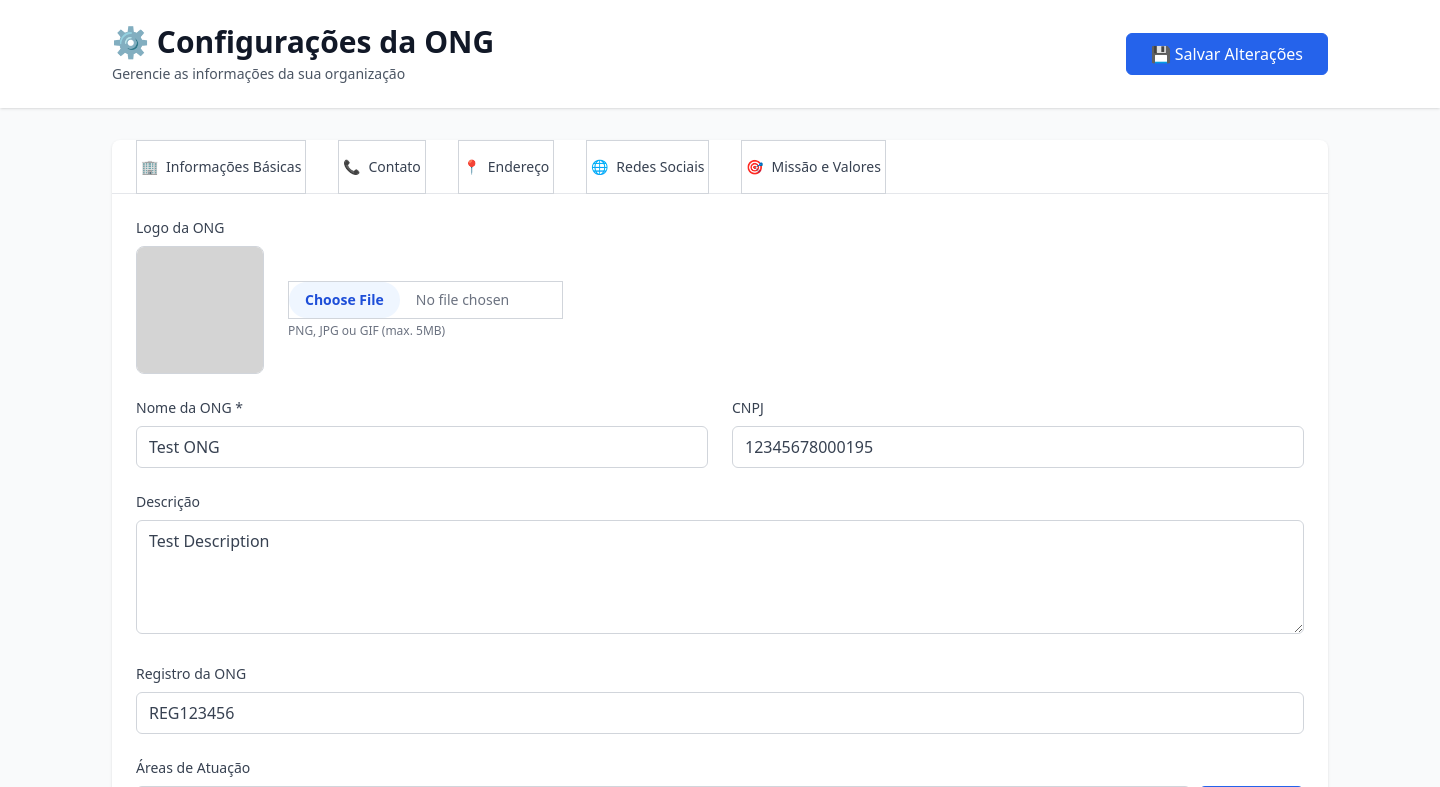
Test: ONGSettingsPage › Contact Tab › should display contact info form
Click the button "📞Contato" at (382, 167), box [338,140,426,194]
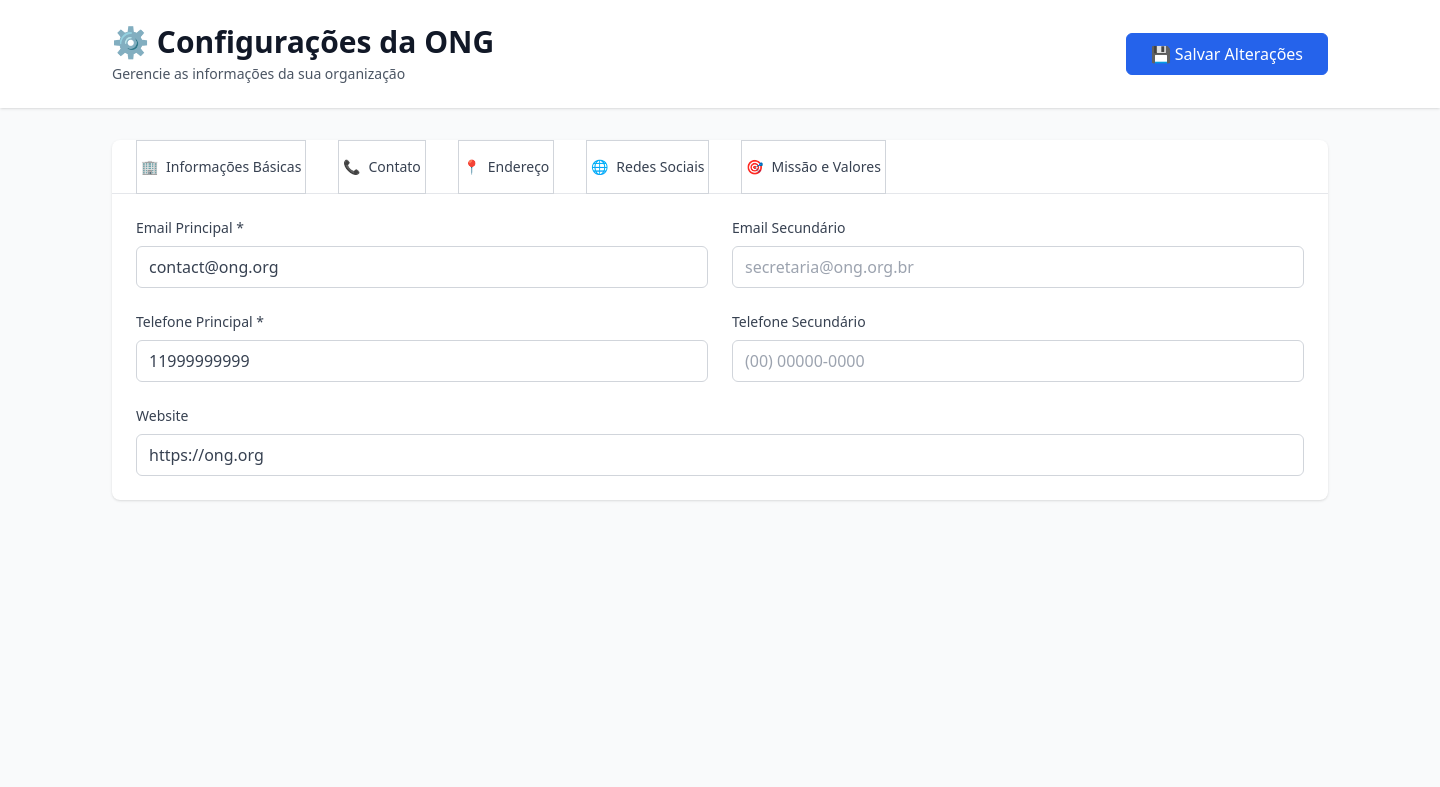
Now the field showing "contact@ong.org" below "Email Principal *" is shown, box [136,246,708,288]
Now the field showing "11999999999" below "Telefone Principal *" is shown, box [136,340,708,382]
Now the field showing "https://ong.org" below "Website" is shown, box [136,434,1304,476]
